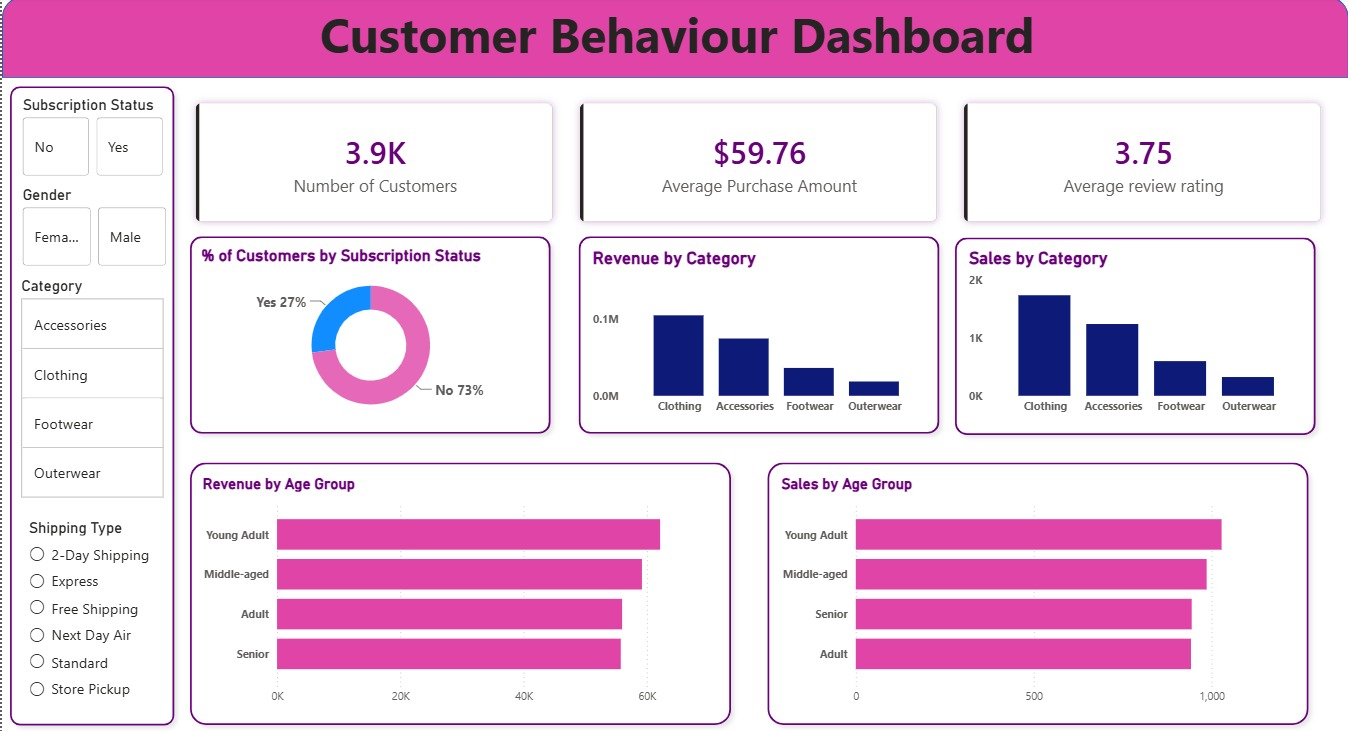

Layout of this report page (visuals, bound fields, positions):
{"tool":"powerbi","page":{"name":"Page 1","canvas":[1500,820],"ordinal":0},"visuals":[{"type":"cardVisual","fields":{"Data":["final_csv_customer.Number of Customers","final_csv_customer.Average Purchase Amount","final_csv_customer.Average review rating"]},"box":[188.1,90.1,1312.2,188.1],"z":0},{"type":"shape","box":[0,0,1500.3,90.1],"z":1000},{"type":"textbox","box":[294.3,0,916.6,90.1],"z":2000},{"type":"shape","box":[201,257.3,419.7,238],"z":3000},{"type":"donutChart","title":"% of Customers by Subscription Status","fields":{"Category":["final_csv_customer.subscription_status"],"Y":["CountNonNull(final_csv_customer.customer_id)"]},"box":[217.1,276.6,387.5,201],"z":4000},{"type":"shape","box":[633.6,257.3,419.7,238],"z":5000},{"type":"shape","box":[1053.3,258.9,419.7,238],"z":6000},{"type":"clusteredColumnChart","title":"Revenue by Category","fields":{"Y":["Sum(final_csv_customer.purchase_amount)"],"Category":["final_csv_customer.category"]},"box":[652.9,279.8,382.7,194.6],"z":7000},{"type":"clusteredColumnChart","title":"Sales by Category","fields":{"Y":["CountNonNull(final_csv_customer.customer_id)"],"Category":["final_csv_customer.category"]},"box":[1072.6,279.8,382.7,194.6],"z":8000},{"type":"shape","box":[0,90.1,201,730.1],"z":9000},{"type":"advancedSlicerVisual","title":"Subscription Status","fields":{"Values":["final_csv_customer.subscription_status"]},"box":[17.7,109.3,167.2,94.9],"z":10000},{"type":"advancedSlicerVisual","title":"Gender","fields":{"Values":["final_csv_customer.gender"]},"box":[17.7,210.7,170.5,94.9],"z":11000},{"type":"advancedSlicerVisual","title":"Category","fields":{"Values":["final_csv_customer.category"]},"box":[16.1,312,168.8,252.5],"z":12000},{"type":"listSlicer","title":"Shipping Type","fields":{"Values":["final_csv_customer.shipping_type"]},"box":[25.7,580.5,159.2,215.5],"z":13000},{"type":"shape","box":[201,509.8,620.7,310.4],"z":15000},{"type":"shape","box":[844.2,509.8,620.7,310.4],"z":16000},{"type":"clusteredBarChart","title":"Revenue by Age Group","fields":{"Y":["Sum(final_csv_customer.purchase_amount)"],"Category":["final_csv_customer.age_group"]},"box":[218.7,532.3,583.7,265.3],"z":16001},{"type":"clusteredBarChart","title":"Sales by Age Group","fields":{"Y":["CountNonNull(final_csv_customer.customer_id)"],"Category":["final_csv_customer.age_group"]},"box":[863.5,532.3,583.7,265.3],"z":16002}]}

Visuals, with their boxes in screenshot pixels (x1, y1, x2, y2), scaled from the page's 1500x820 canvas onto the 1348x731 screenshot:
cardVisual - final_csv_customer.Number of Customers x final_csv_customer.Average Purchase Amount: region(169, 80, 1347, 248)
shape: region(0, 0, 1347, 80)
textbox: region(264, 0, 1088, 80)
shape: region(181, 229, 558, 442)
"% of Customers by Subscription Status" donutChart: region(195, 247, 543, 426)
shape: region(569, 229, 947, 442)
shape: region(947, 231, 1324, 443)
"Revenue by Category" clusteredColumnChart: region(587, 249, 931, 423)
"Sales by Category" clusteredColumnChart: region(964, 249, 1308, 423)
shape: region(0, 80, 181, 730)
"Subscription Status" advancedSlicerVisual: region(16, 97, 166, 182)
"Gender" advancedSlicerVisual: region(16, 188, 169, 272)
"Category" advancedSlicerVisual: region(14, 278, 166, 503)
"Shipping Type" listSlicer: region(23, 517, 166, 710)
shape: region(181, 454, 738, 730)
shape: region(759, 454, 1316, 730)
"Revenue by Age Group" clusteredBarChart: region(197, 475, 721, 711)
"Sales by Age Group" clusteredBarChart: region(776, 475, 1301, 711)
